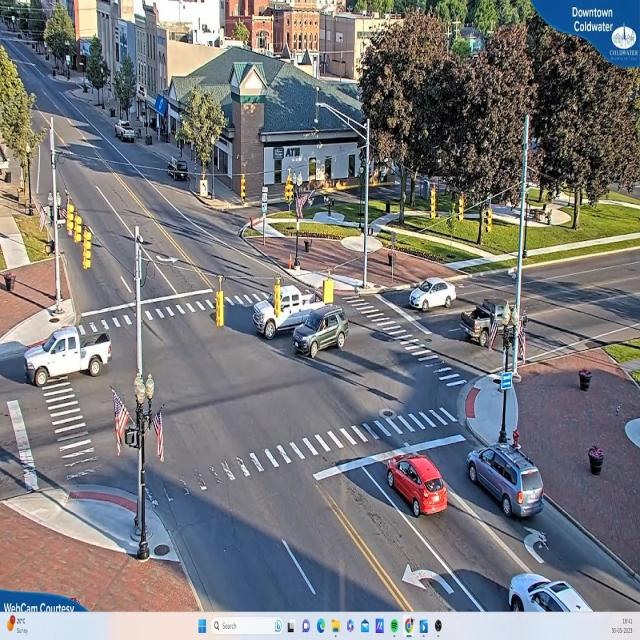car: (465, 442, 545, 520), (22, 320, 114, 387), (386, 455, 449, 519), (505, 576, 619, 611), (292, 306, 350, 364), (254, 283, 312, 338), (465, 298, 522, 349), (407, 276, 455, 311), (116, 123, 136, 143)
